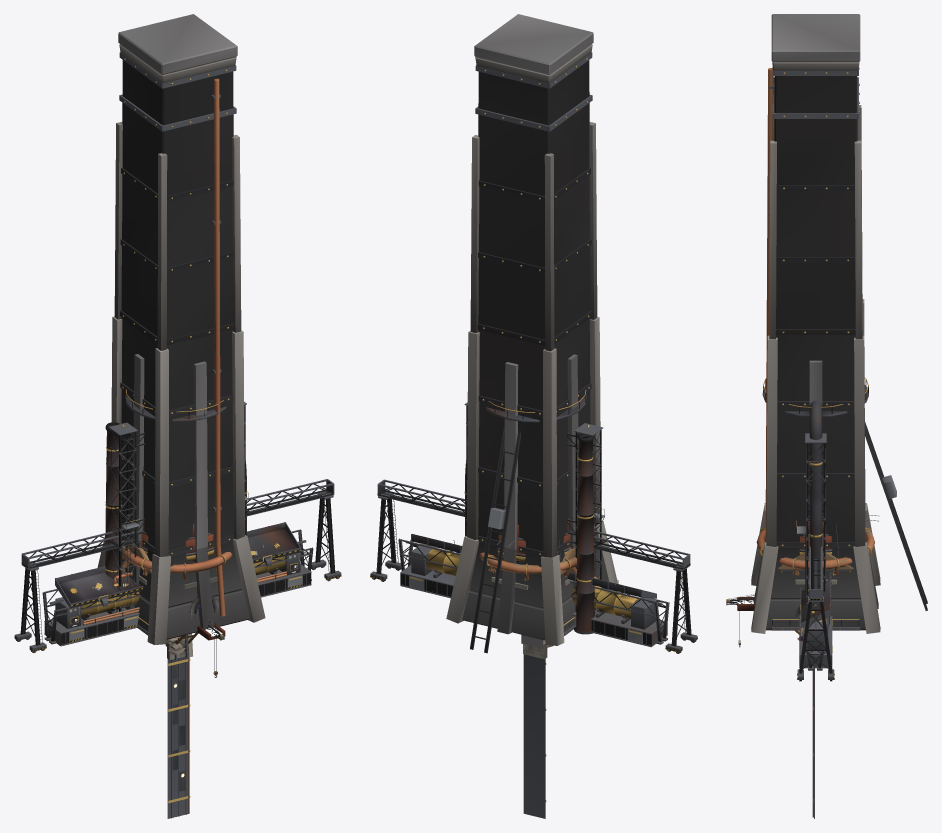
File: stormbrass_foundry_kit.glb
3 renders of one model, left to right at view 1: azimuth 30°, elevation 25°; view 2: azimuth 150°, elevation 25°; view 3: azimuth 270°, elevation 25°, orthographic.
Visible parts, largest first — view 1: Kit_Pier, Kit_YardGantry, Kit_PartsChute, Kit_BlastFurnace, Kit_PressCrown, Kit_TowerPanel, Kit_GantryScaffold; view 2: Kit_Pier, Kit_BlastFurnace, Kit_YardGantry, Kit_PressCrown, Kit_TowerPanel, Kit_PartsChute, Kit_GantryScaffold; view 3: Kit_Pier, Kit_BlastFurnace, Kit_YardGantry, Kit_GantryScaffold, Kit_PartsChute, Kit_PressCrown, Kit_BoilerHouse, Kit_TowerPanel.
Boxes of the visible parts, x1,y1,x2,y2 form: Kit_Pier: [97, 14, 265, 644]; Kit_YardGantry: [14, 479, 341, 652]; Kit_PartsChute: [42, 522, 313, 644]; Kit_BlastFurnace: [105, 389, 247, 640]; Kit_PressCrown: [44, 545, 311, 646]; Kit_TowerPanel: [167, 656, 190, 818]; Kit_GantryScaffold: [109, 401, 248, 612]; Kit_Pier: [446, 14, 617, 645]; Kit_BlastFurnace: [464, 390, 594, 653]; Kit_YardGantry: [370, 479, 697, 653]; Kit_PressCrown: [400, 543, 667, 647]; Kit_TowerPanel: [523, 654, 546, 818]; Kit_PartsChute: [398, 534, 669, 644]; Kit_GantryScaffold: [464, 402, 604, 612]; Kit_Pier: [751, 14, 880, 633]; Kit_BlastFurnace: [737, 377, 927, 624]; Kit_YardGantry: [797, 534, 834, 681]; Kit_GantryScaffold: [796, 433, 826, 598]; Kit_PartsChute: [796, 572, 831, 670]; Kit_PressCrown: [799, 604, 832, 668]; Kit_BoilerHouse: [771, 524, 860, 630]; Kit_TowerPanel: [812, 668, 814, 818].
Size of the model in its own units: 56.6 by 136 by 31.82.
